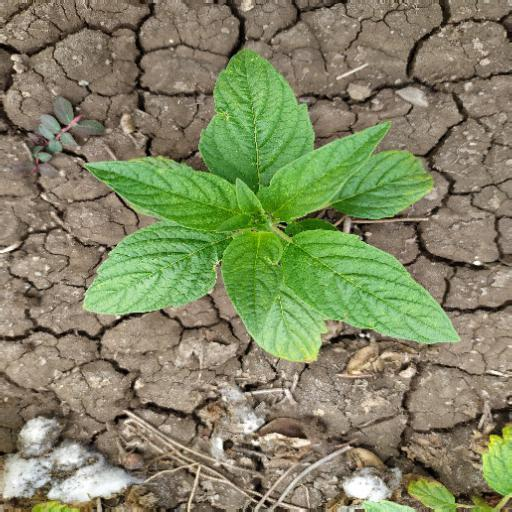crop: (84, 54, 464, 362)
